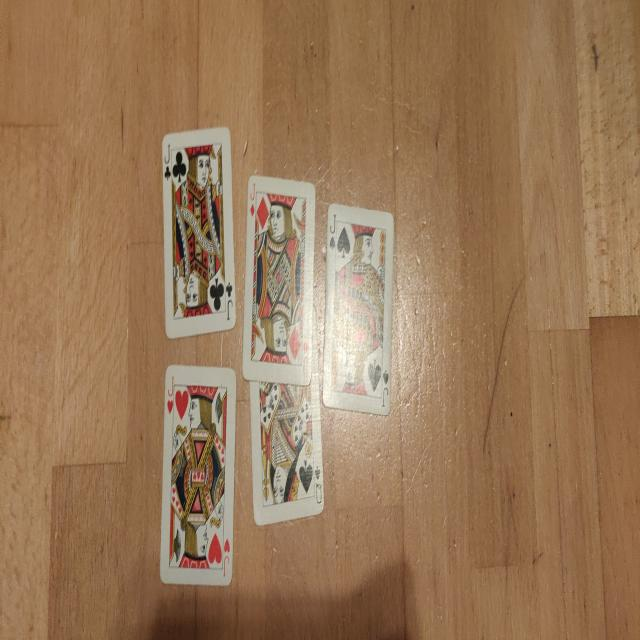Club: (210, 278, 224, 311), (172, 152, 186, 183), (164, 166, 171, 181), (226, 282, 232, 297)
Diamond: (289, 326, 301, 361), (257, 197, 269, 229), (250, 204, 255, 217), (304, 339, 308, 354)
Heart: (208, 533, 222, 564), (175, 390, 189, 421), (167, 400, 173, 414), (224, 539, 230, 552)
Jack: (330, 214, 336, 235), (227, 300, 233, 320), (382, 387, 388, 407), (168, 376, 174, 396), (250, 183, 256, 201), (224, 556, 229, 576), (165, 145, 170, 164), (303, 357, 308, 374)
Queen: (316, 483, 322, 504)
Spade: (299, 460, 313, 494), (368, 358, 381, 392), (337, 227, 350, 258), (383, 370, 389, 385), (315, 466, 320, 480), (330, 237, 335, 250)
